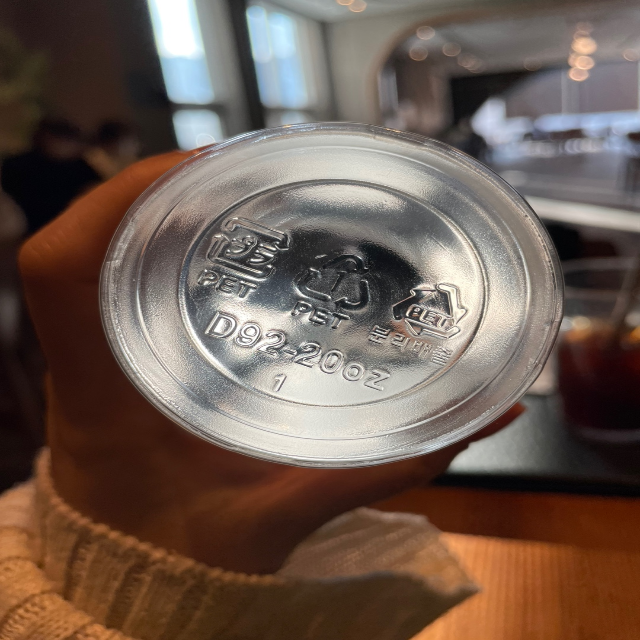pet: (192, 206, 292, 306), (369, 277, 472, 372), (289, 246, 373, 339)
